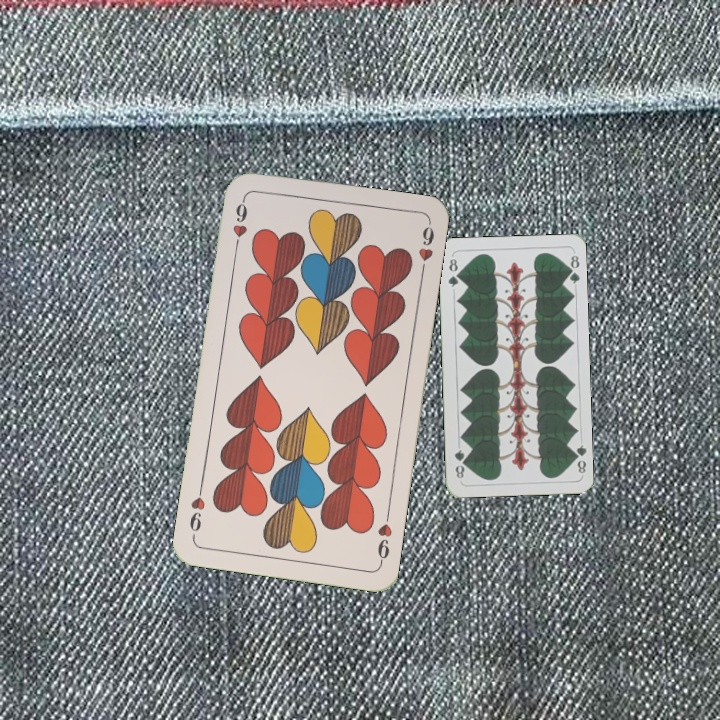G8: (568, 441, 589, 476), (444, 254, 462, 290)
H9: (373, 508, 395, 567), (228, 194, 250, 253)
